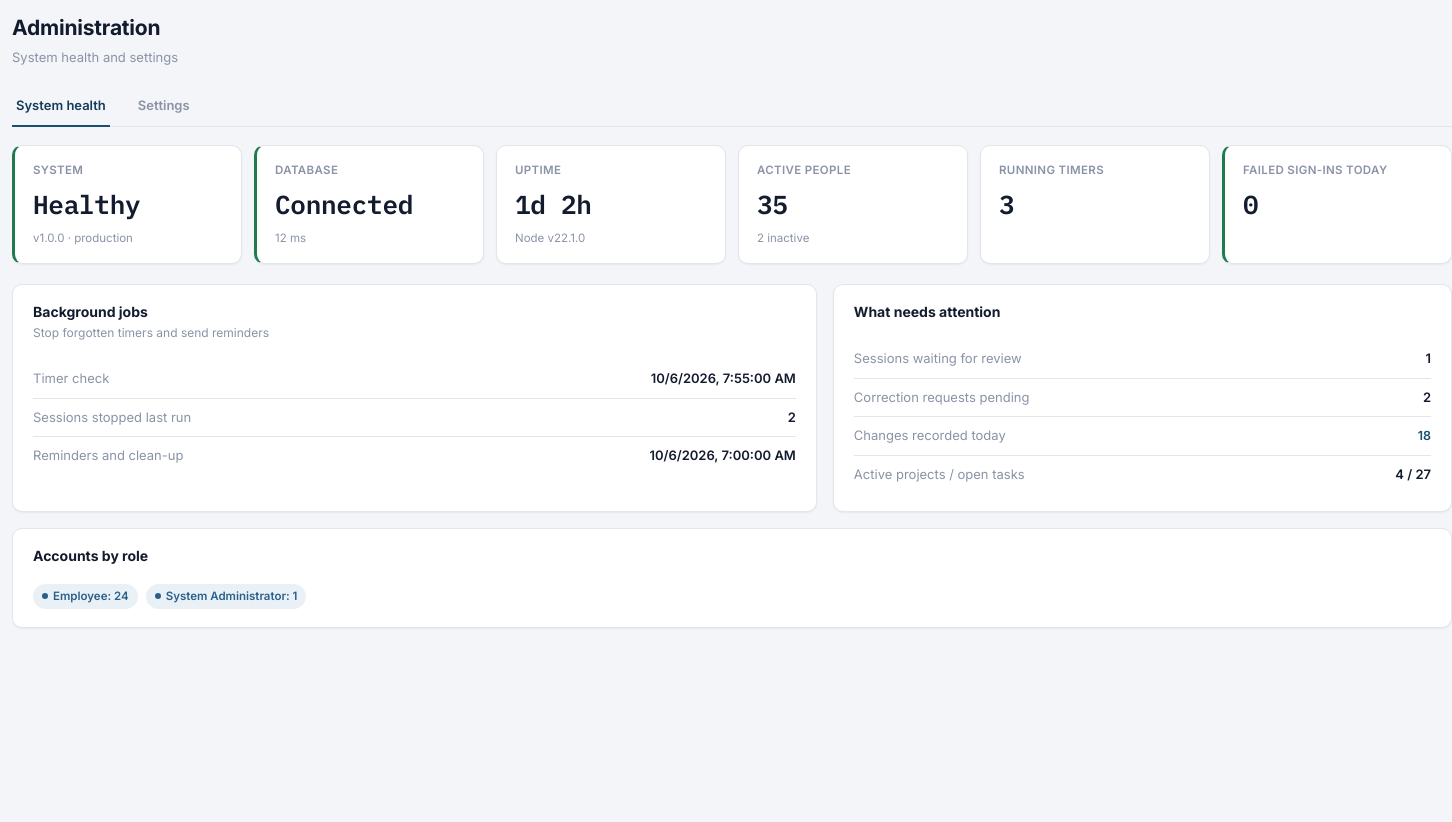
Test: Administration: settings › shows the server’s message when it refuses a value
Expected: the text "Healthy" is shown, [33,187,140,221]
Click the text "Settings".
click(164, 105)  # box [138,97,190,113]
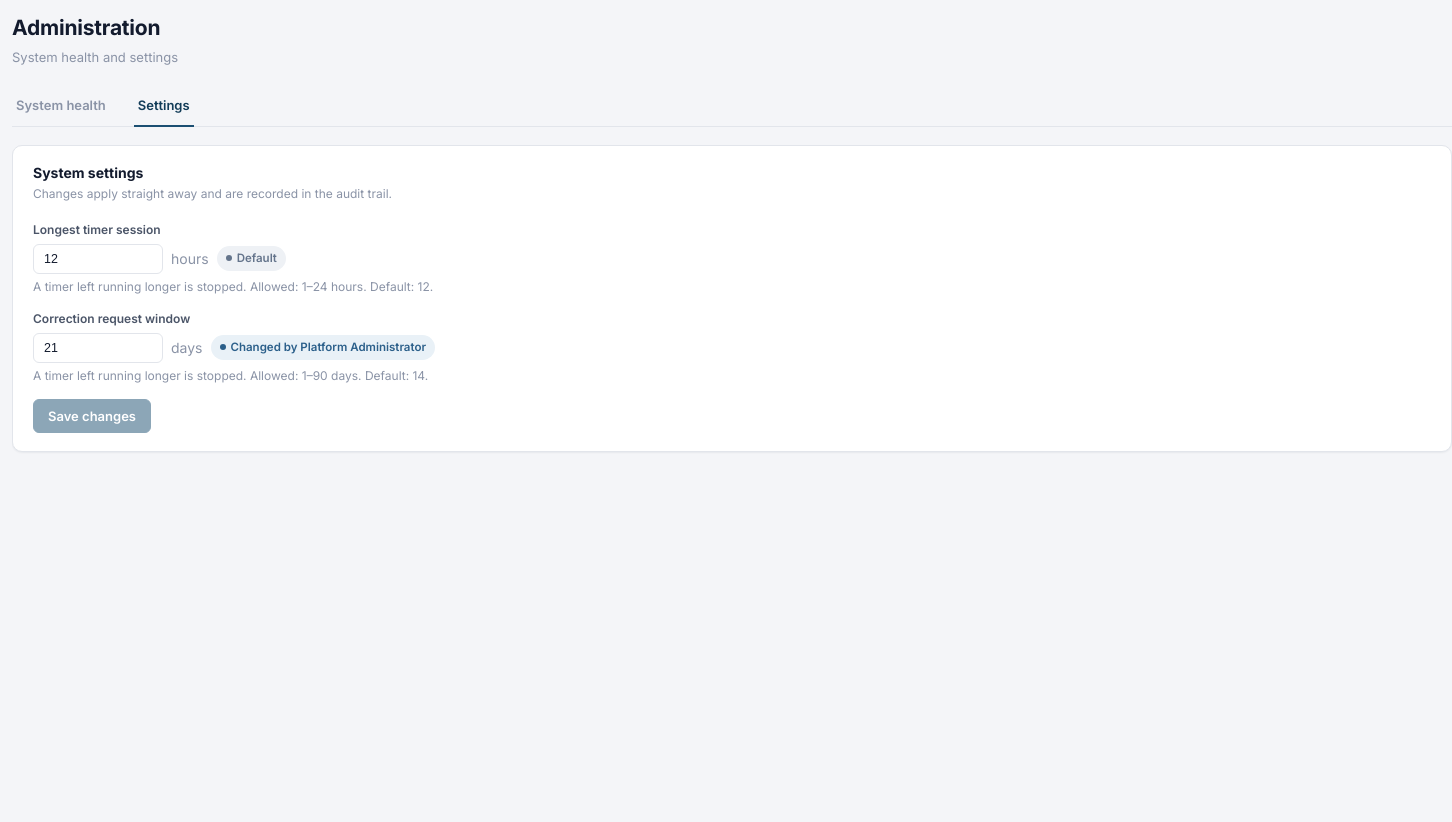
Now the heading "System settings" is shown, box [33,164,143,180]
Replace the text in the number field named "Longest timer session" with "8" at (98, 258), box [33,244,163,274]
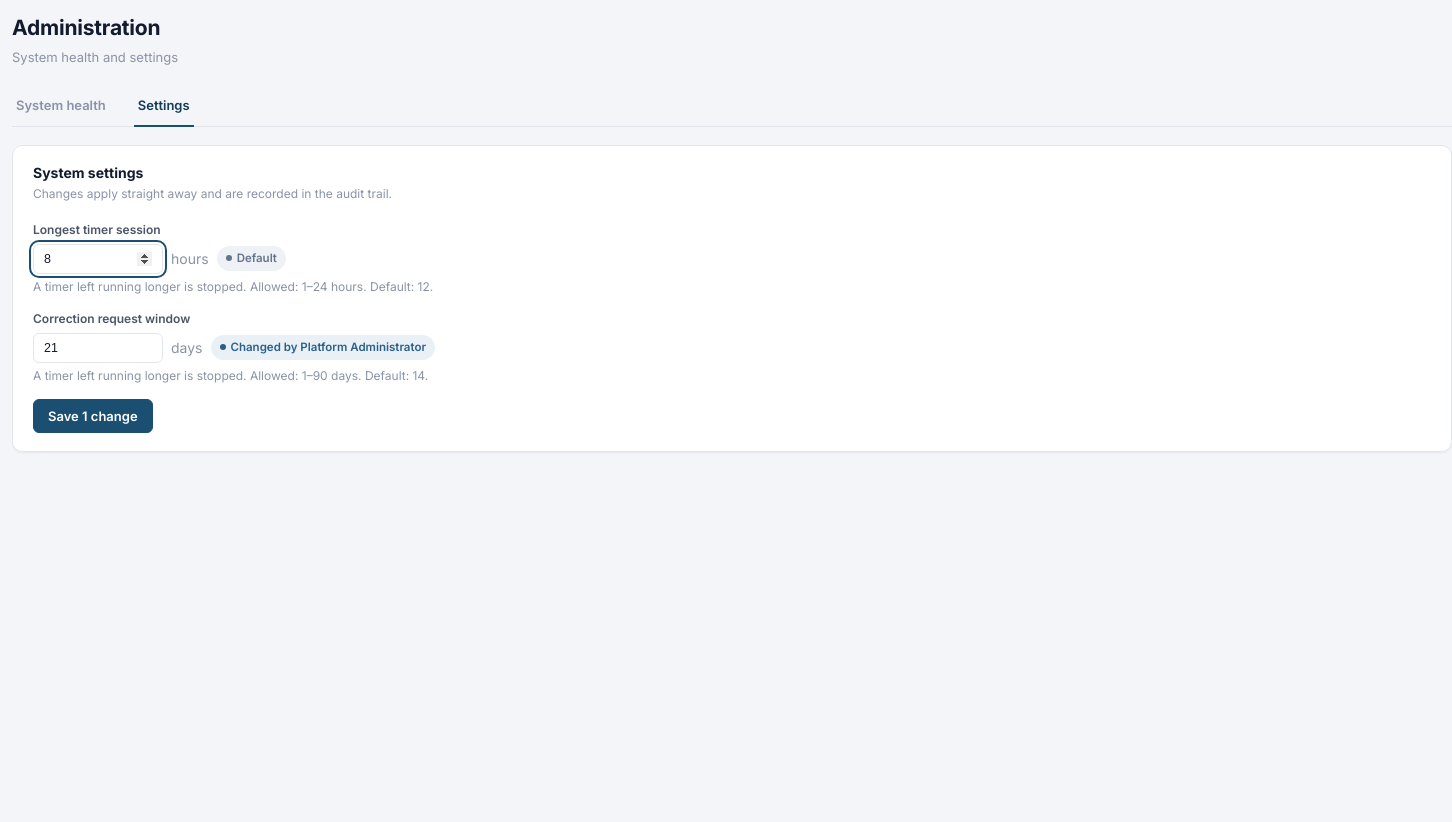
Click the button "Save 1 change".
click(93, 416)  # box [33,398,153,432]
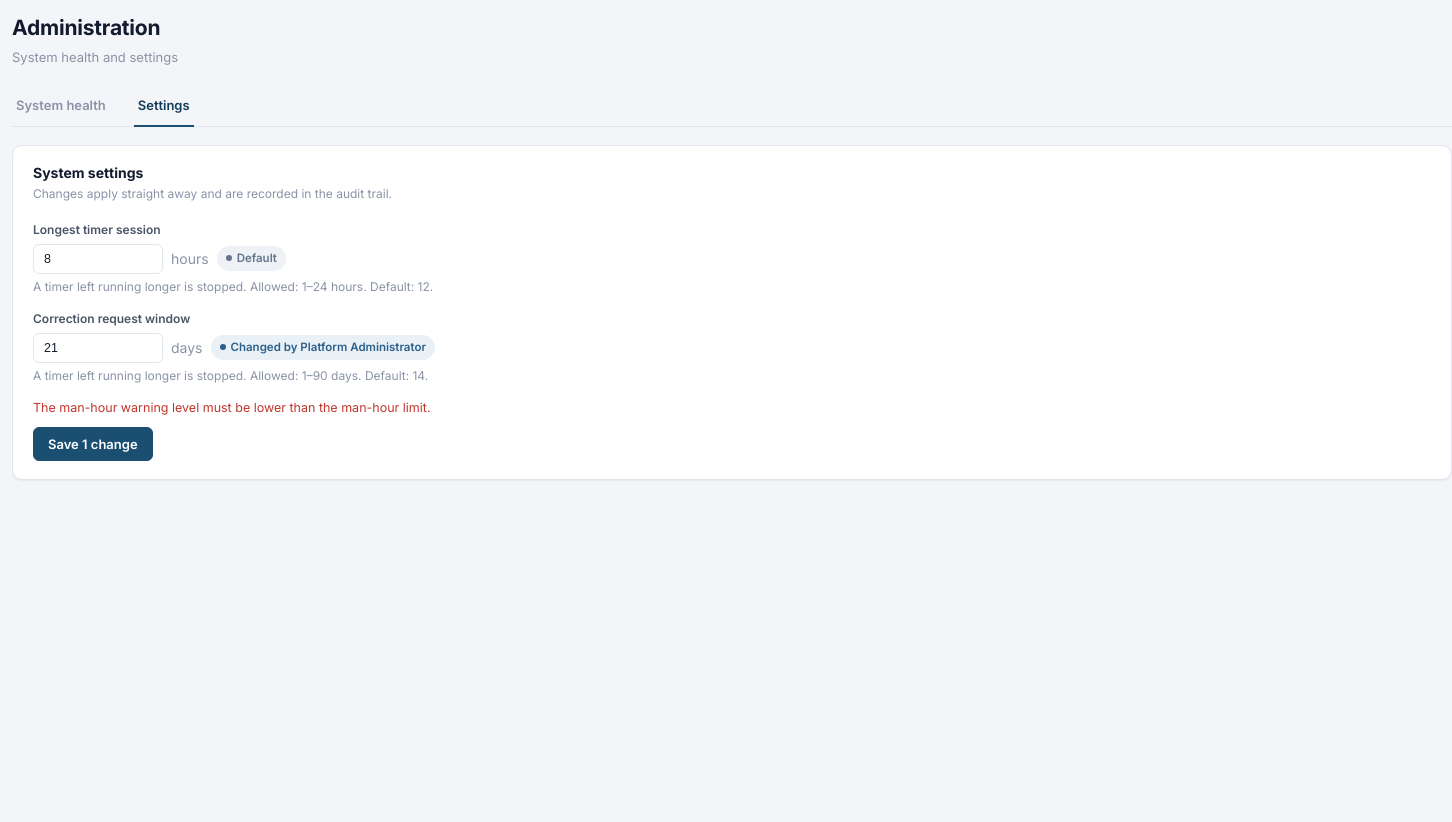
Now the message shows "must be lower than", box [33,400,430,414]
